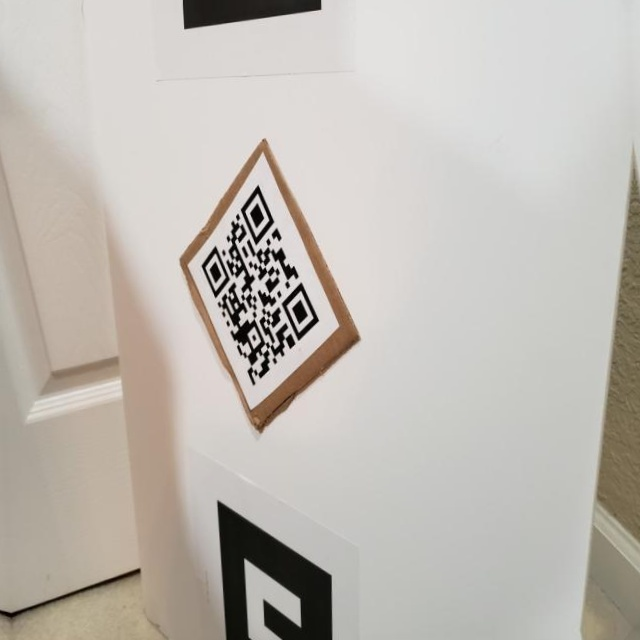qr-code: (194, 179, 325, 397)
